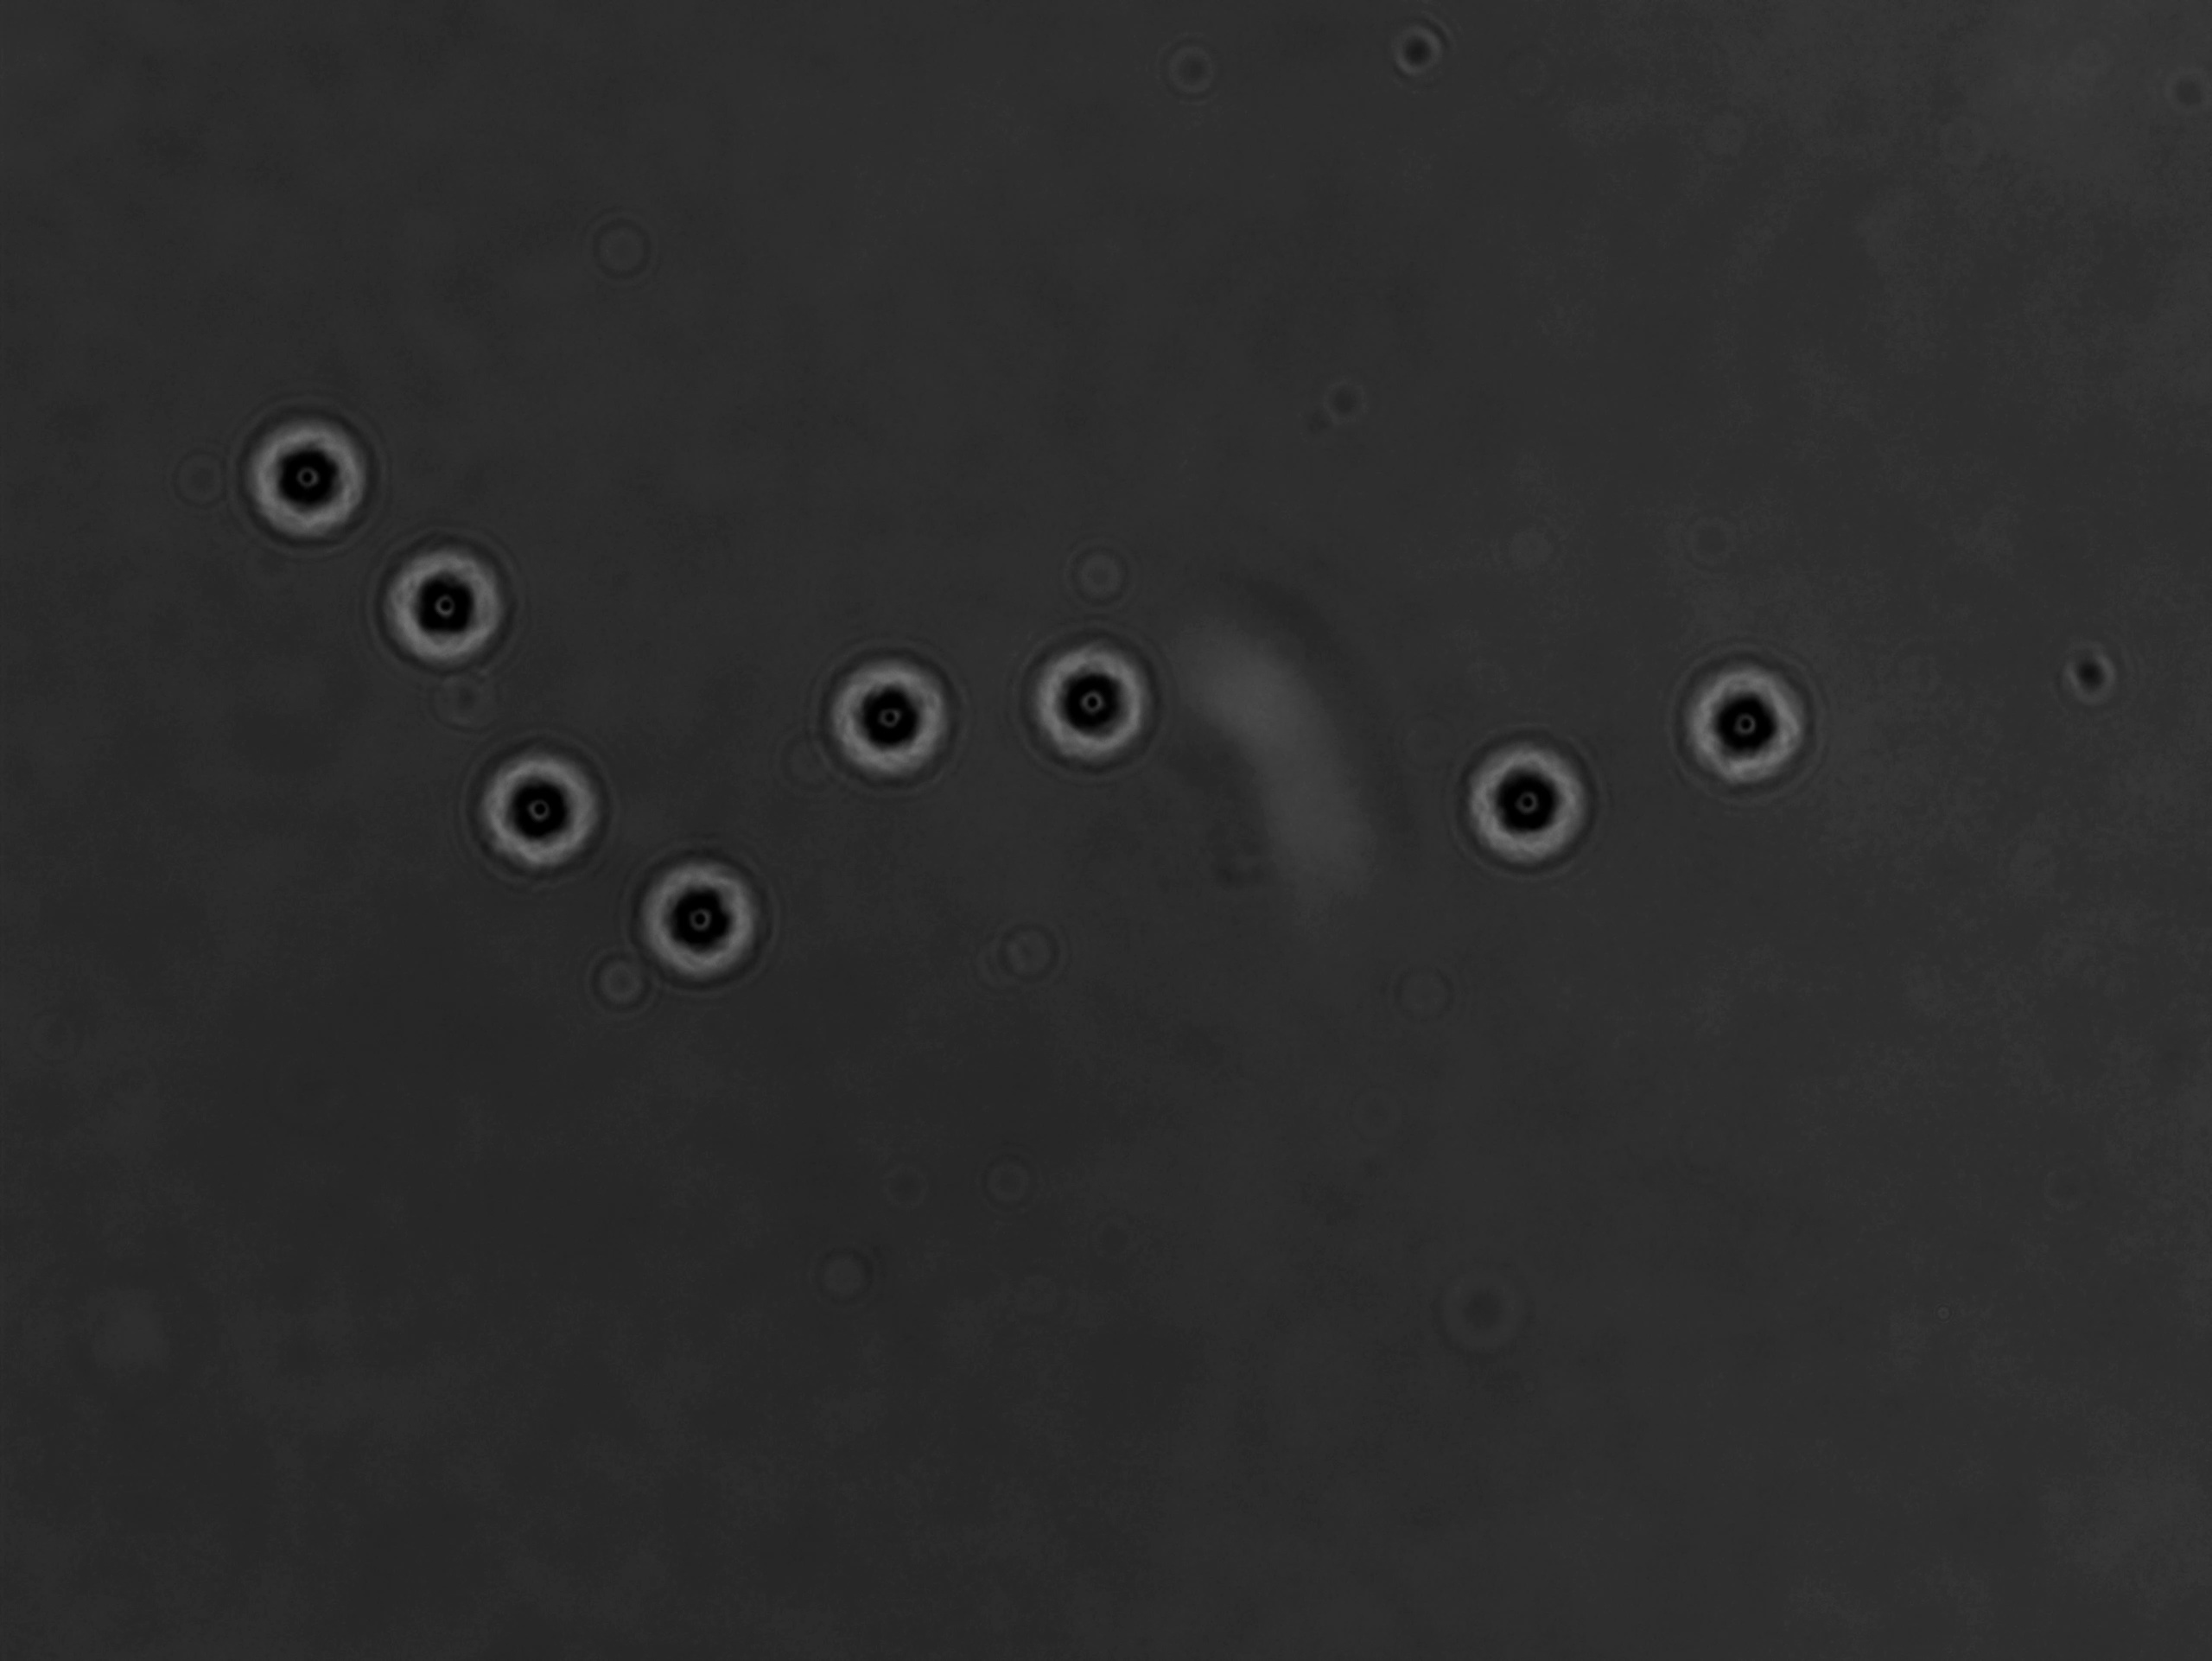depth:-20: (609, 818, 801, 995), (1444, 700, 1617, 886), (1664, 632, 1844, 803), (802, 626, 973, 803), (229, 384, 394, 550), (1005, 614, 1171, 780), (455, 721, 625, 883), (365, 523, 536, 680)
